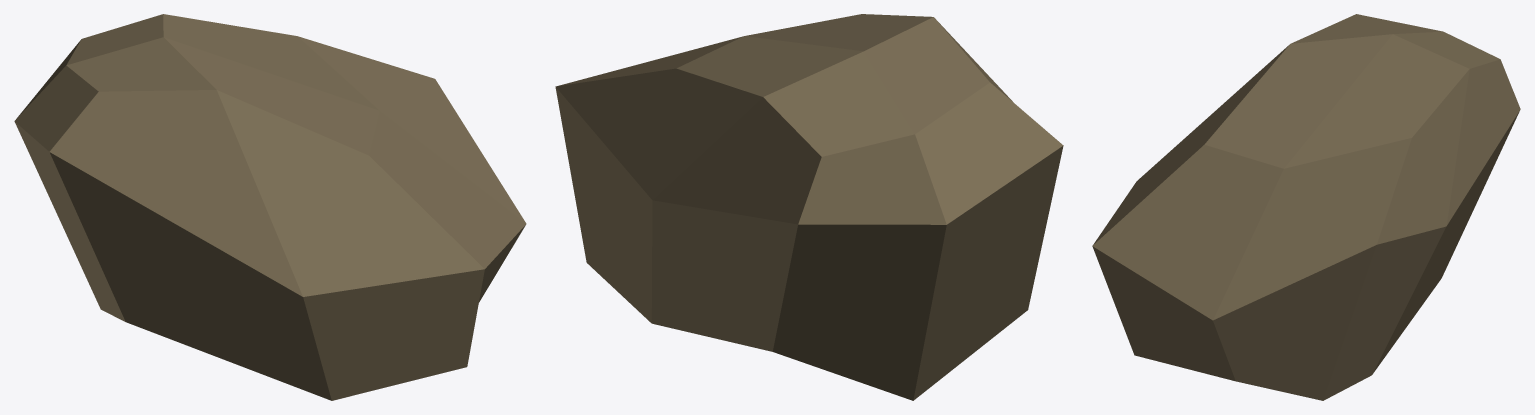
Rendered from rock_3.obj.
The picture shows the model from 3 angles, left to right: view 1: azimuth 30°, elevation 25°; view 2: azimuth 150°, elevation 25°; view 3: azimuth 270°, elevation 25°; orthographic projection. The views are drawn at different scales.
Parts seen in each view (by area): view 1: rock_3; view 2: rock_3; view 3: rock_3.
Part boxes in pixels (<box>): rock_3: <box>14,14,526,400</box>; rock_3: <box>555,14,1063,400</box>; rock_3: <box>1092,14,1520,400</box>.
Bounding box in the file's own units: 6.94 × 5.05 × 6.86.
